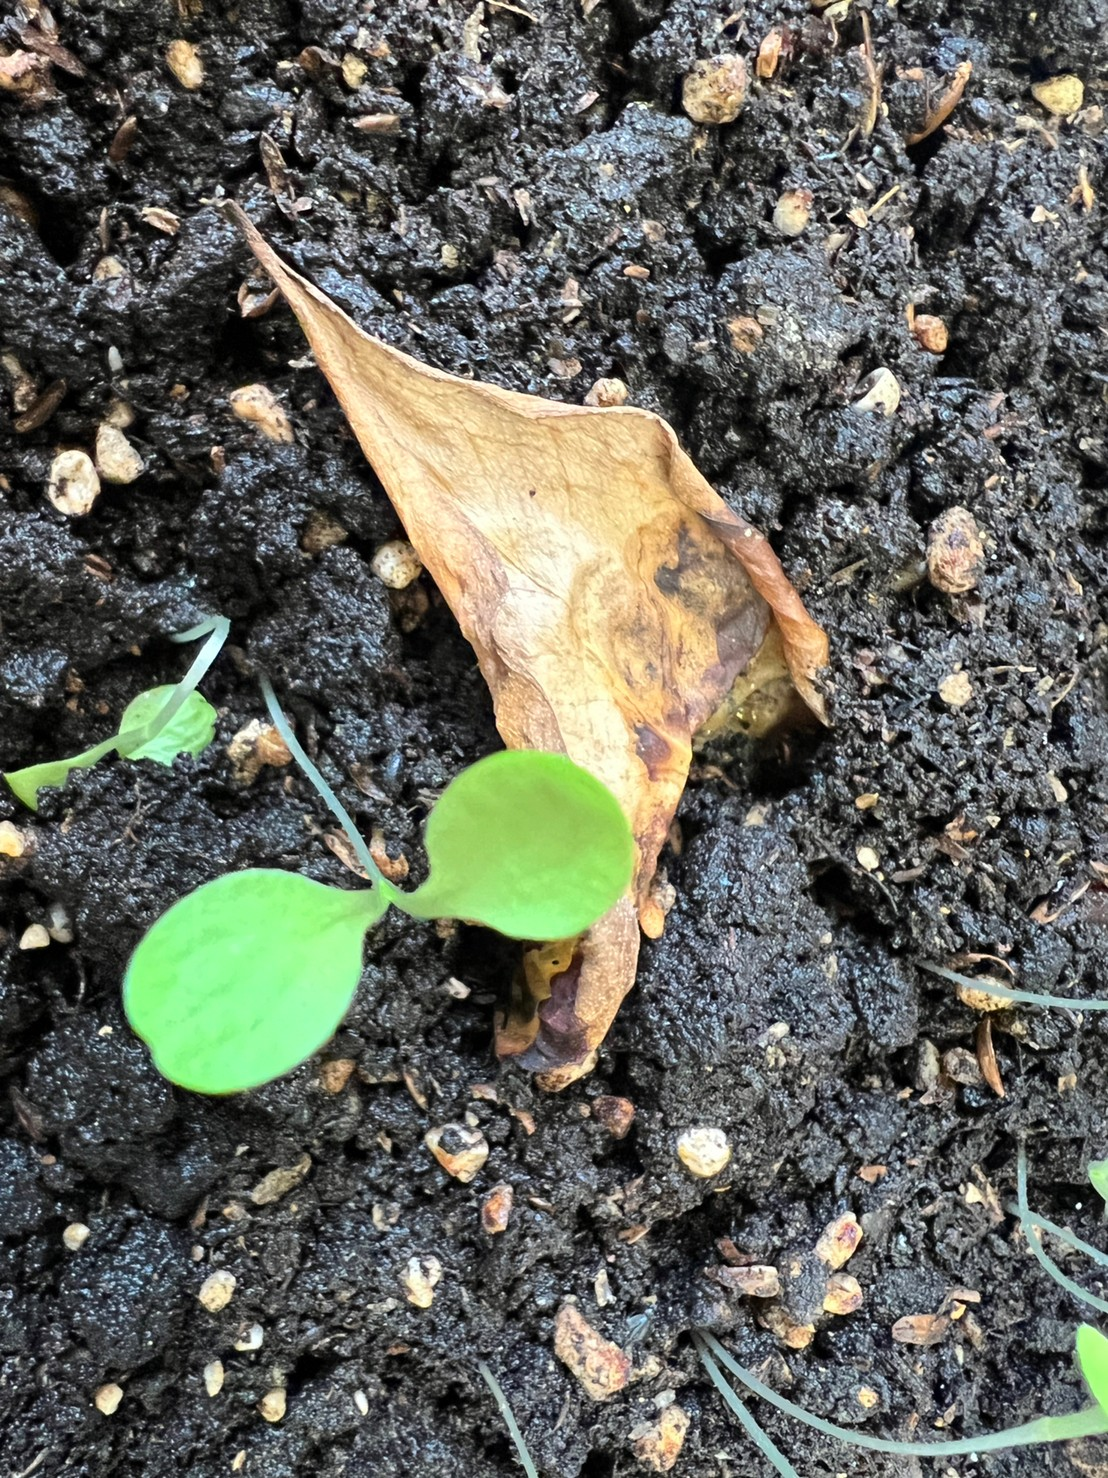week1: (68, 800, 493, 1099), (335, 708, 670, 1012)
